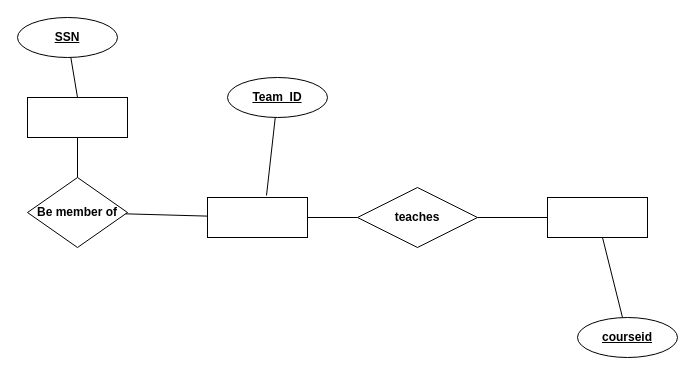
This 695x375 diagram has some shape labels left out. Here are the shapes that lost their labels. From the top down, the centre of each, then its label:
At (x=77, y=117): "Professor".
At (x=257, y=217): "Team".
At (x=597, y=217): "Coures".
